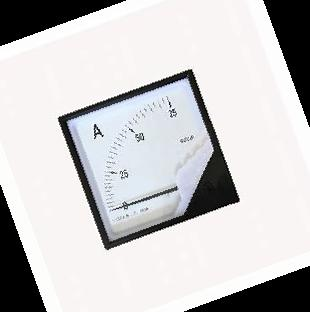pointer: (65, 78, 215, 244)
